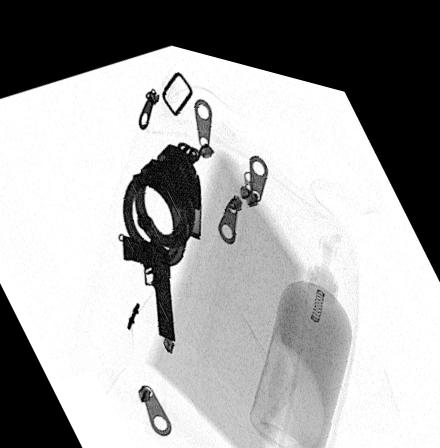Bullet: (188, 162, 201, 225)
Gun: (120, 227, 174, 330)
HandCuffs: (120, 129, 200, 258)
